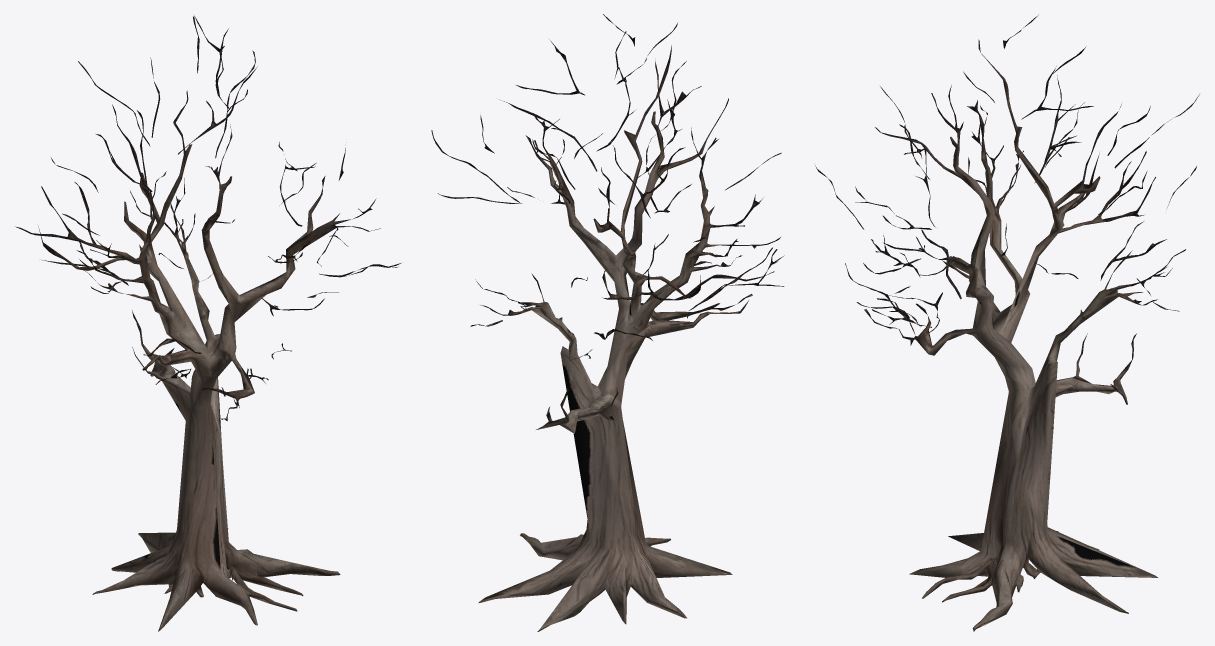
The model's file is tree_dead.glb.
The picture shows the model from 3 angles, left to right: view 1: azimuth 30°, elevation 25°; view 2: azimuth 150°, elevation 25°; view 3: azimuth 270°, elevation 25°; orthographic projection. The views are drawn at different scales.
Visible parts, largest first — view 1: Mesh1.0; view 2: Mesh1.0; view 3: Mesh1.0.
Part boxes in pixels (left/top/right/bottom): Mesh1.0: left=15, top=15, right=401, bottom=631; Mesh1.0: left=431, top=14, right=784, bottom=631; Mesh1.0: left=815, top=15, right=1199, bottom=631.
Bounding box in the file's own units: 0.967 × 1.8 × 1.12.
Materials: 1 (1 with a texture image).
